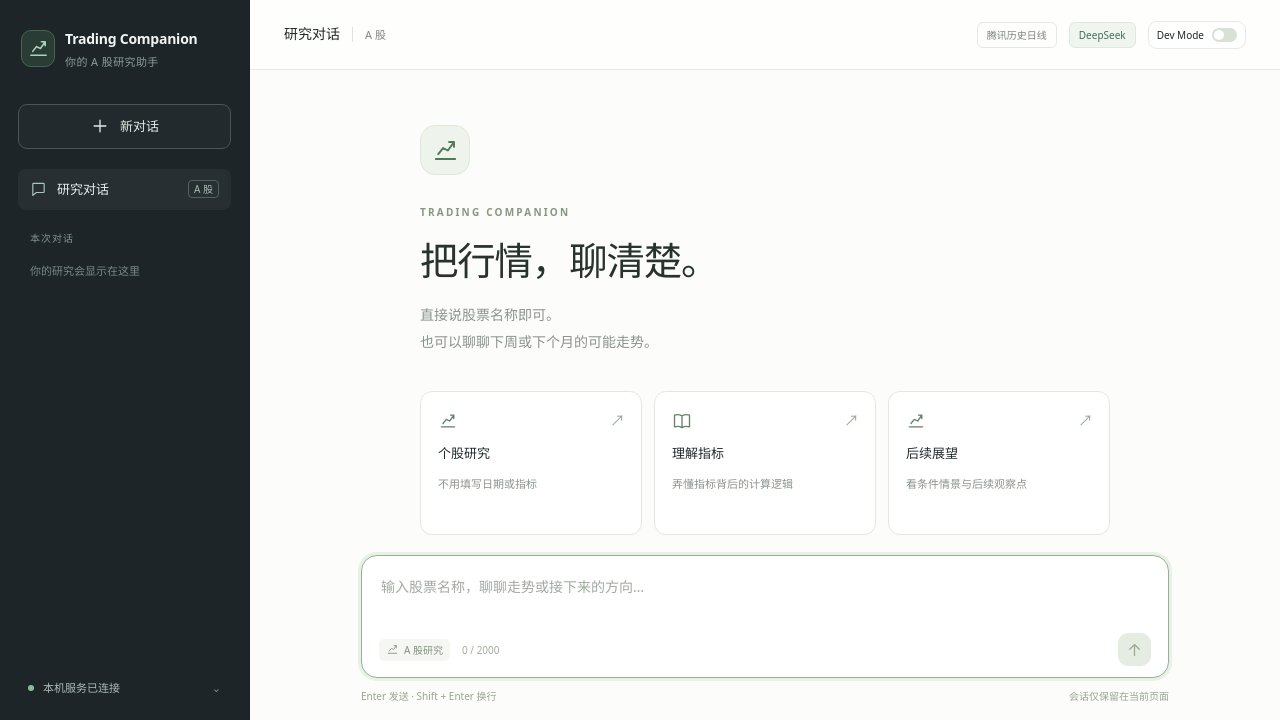
Test: development mode control › keeps the chat and draft intact when the old session could not be deleted
Type "分析平安银行" into the text box named "研究问题" at (765, 599), box [379,572,1151,626]
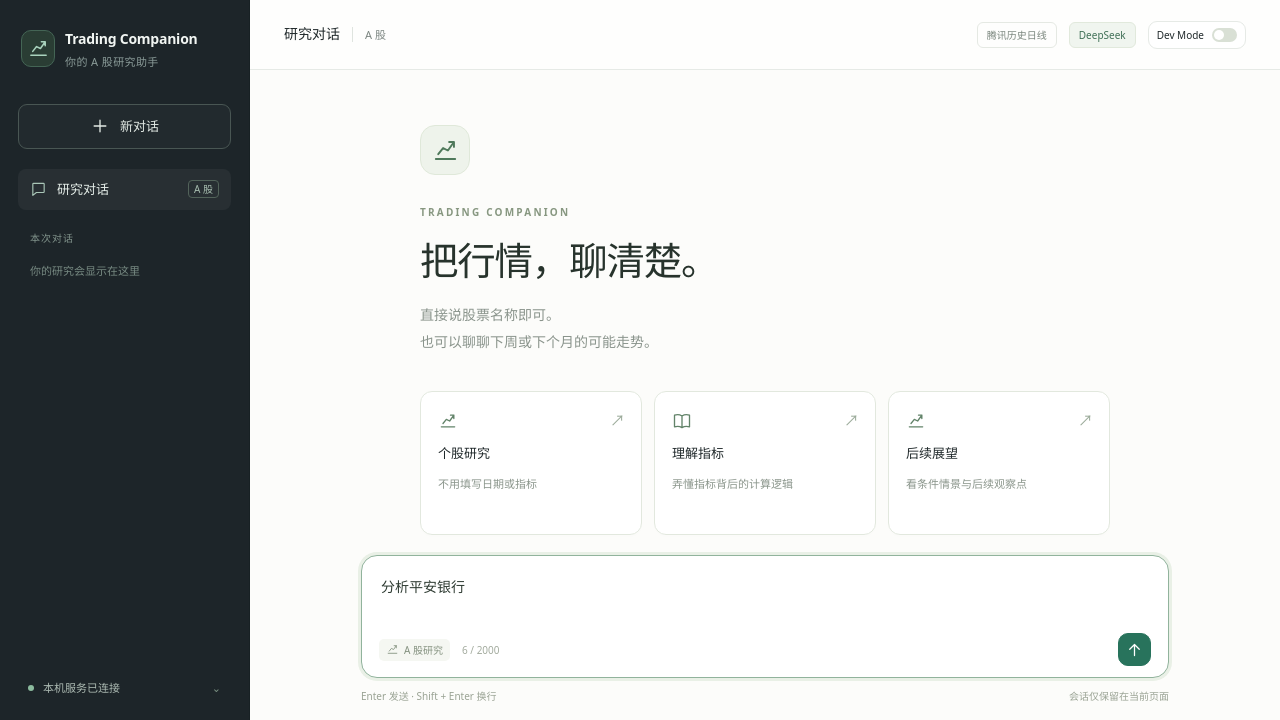
Click the button named "发送问题" at (1134, 650), box [1118,633,1151,666]
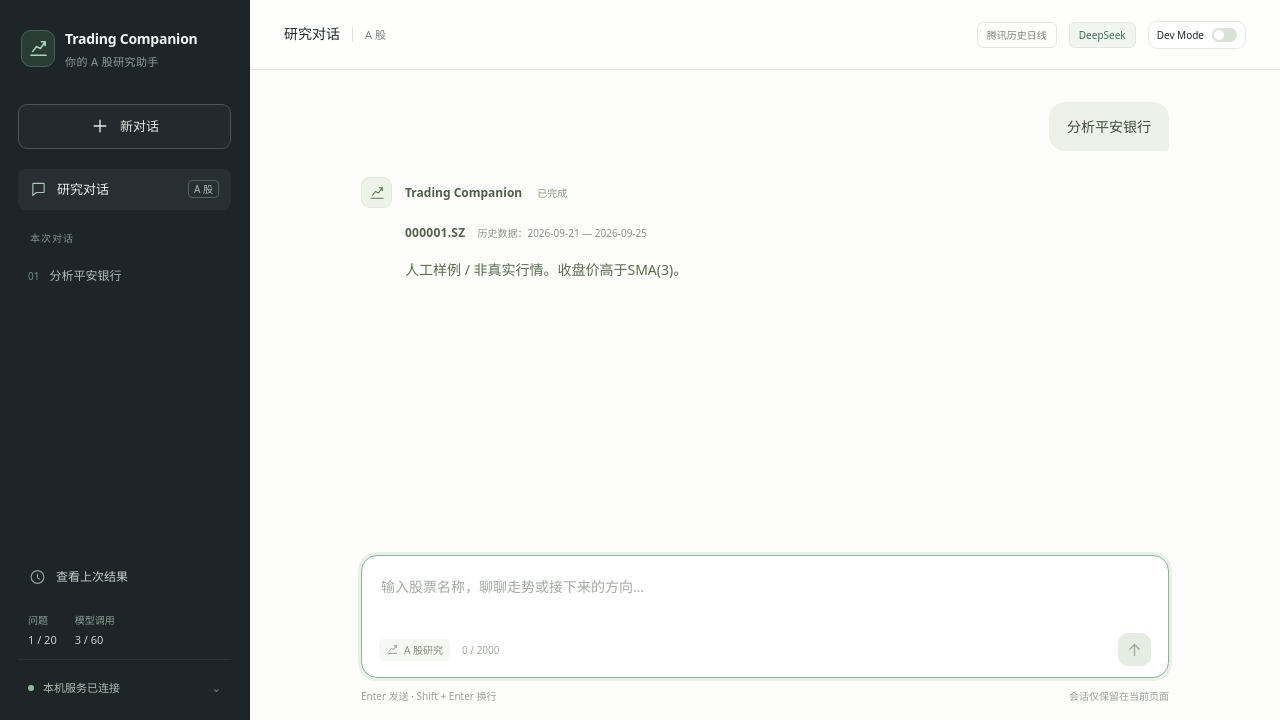
Expected: the text "人工样例 / 非真实行情。收盘价高于SMA(3)。" is shown, [405,260,687,279]
Type "不能丢失的草稿" into the text box named "研究问题" at (765, 599), box [379,572,1151,626]
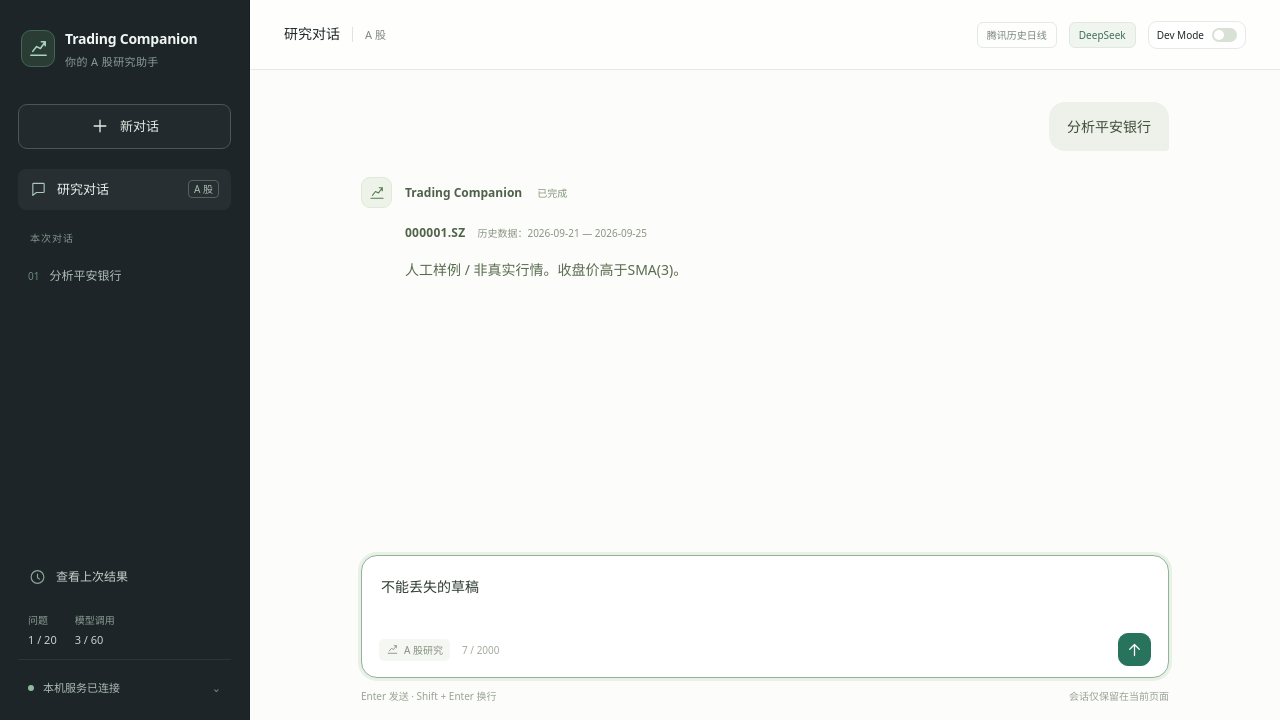
Click the switch labelled "Dev Mode" at (1197, 34), box [1148,20,1246,48]
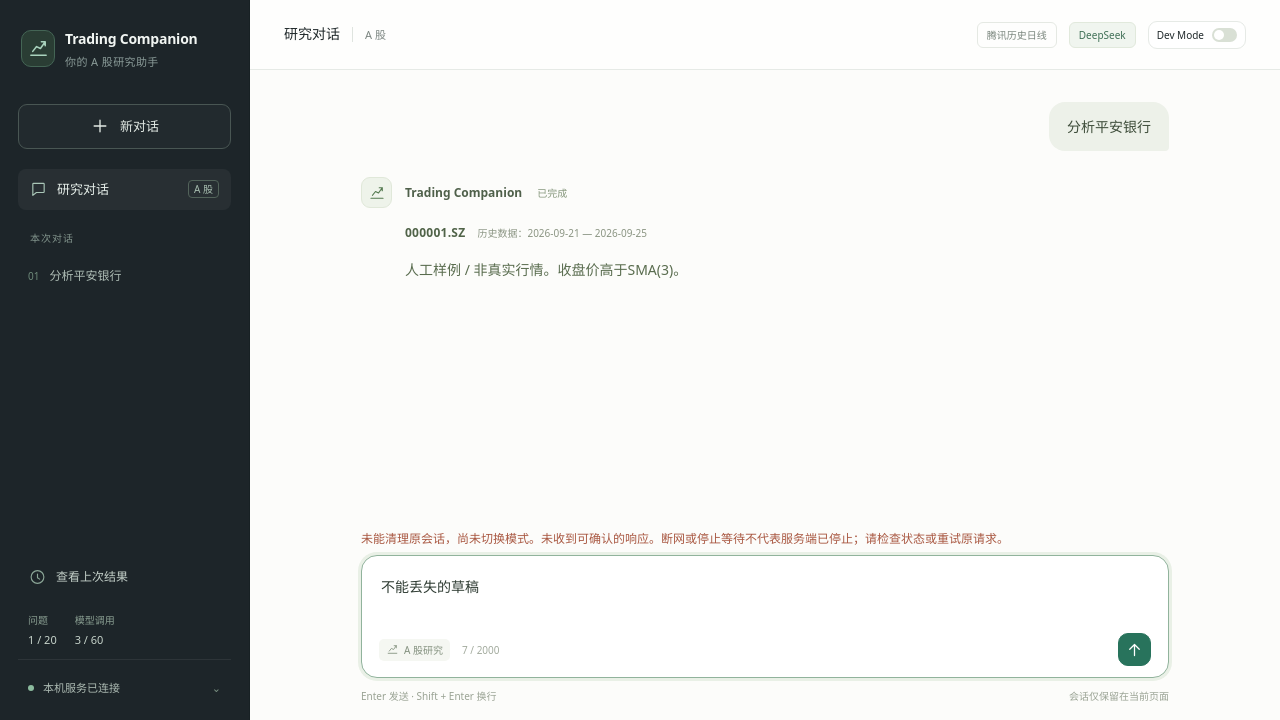
Expected: the text "人工样例 / 非真实行情。收盘价高于SMA(3)。" is shown, [405,260,687,279]
Expected: the message "未能清理原会话，尚未切换模式。未收到可确认的响应。断网或停止等待不代表服务端已停止；请检查状态或重试原请求。" is shown, [361,530,1009,547]
